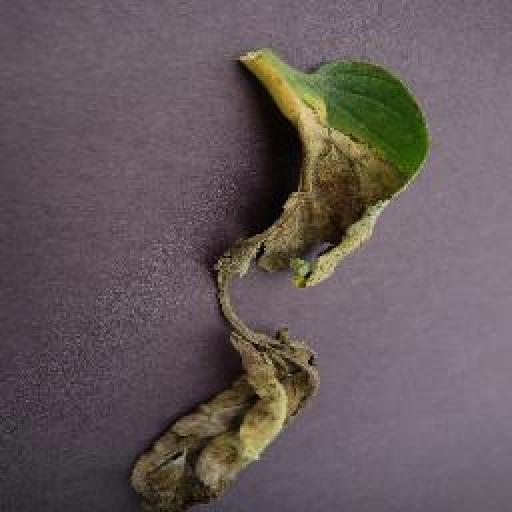disease_tomato: (132, 56, 430, 512)
